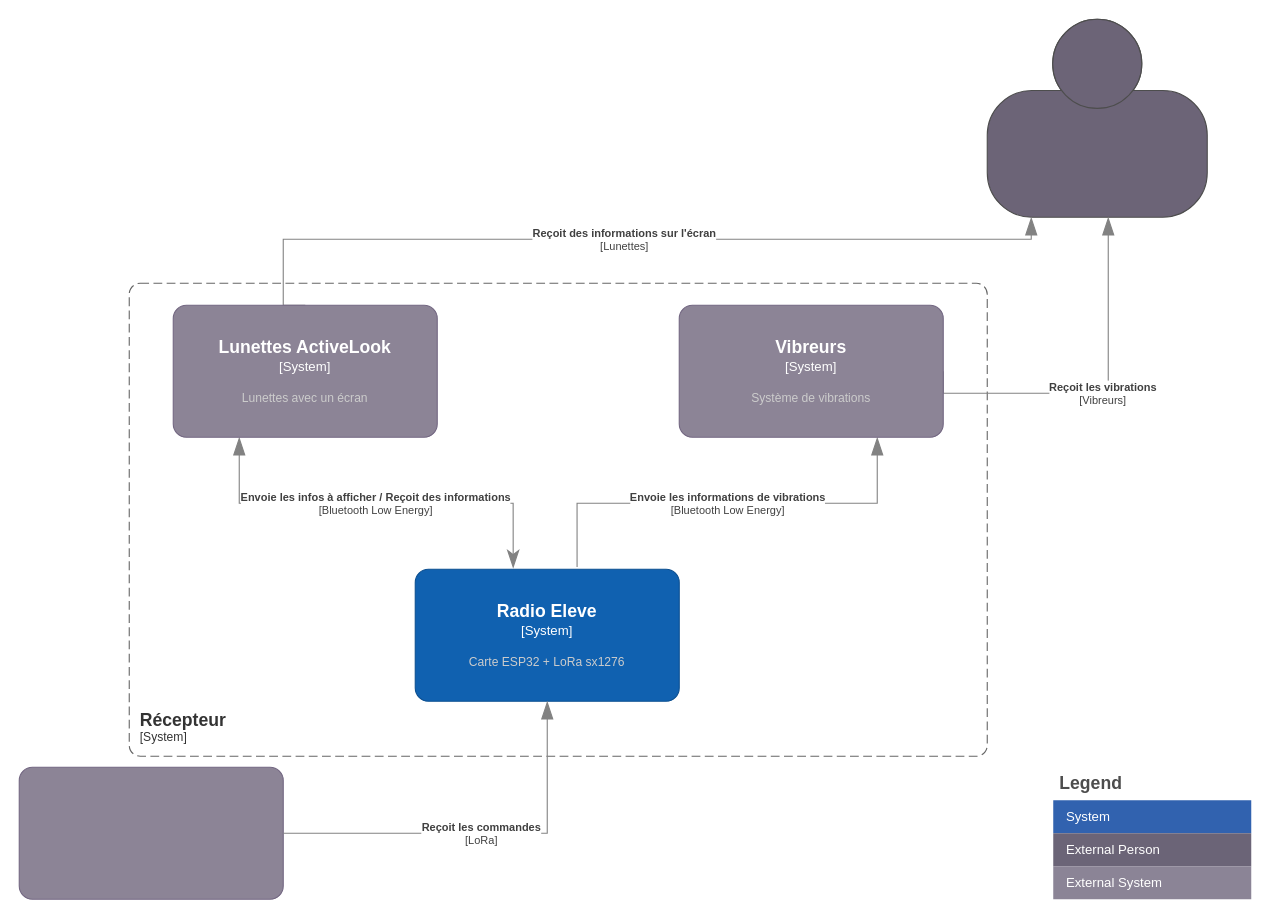
Some shapes in this 1271 by 919 pixel diagram are drawn without their labels. The centre of each missing label's shape, as x and y in pixels:
"Eleve [Person]" belongs at point 1096,117.
"Emetteur [System]" belongs at point 150,832.
